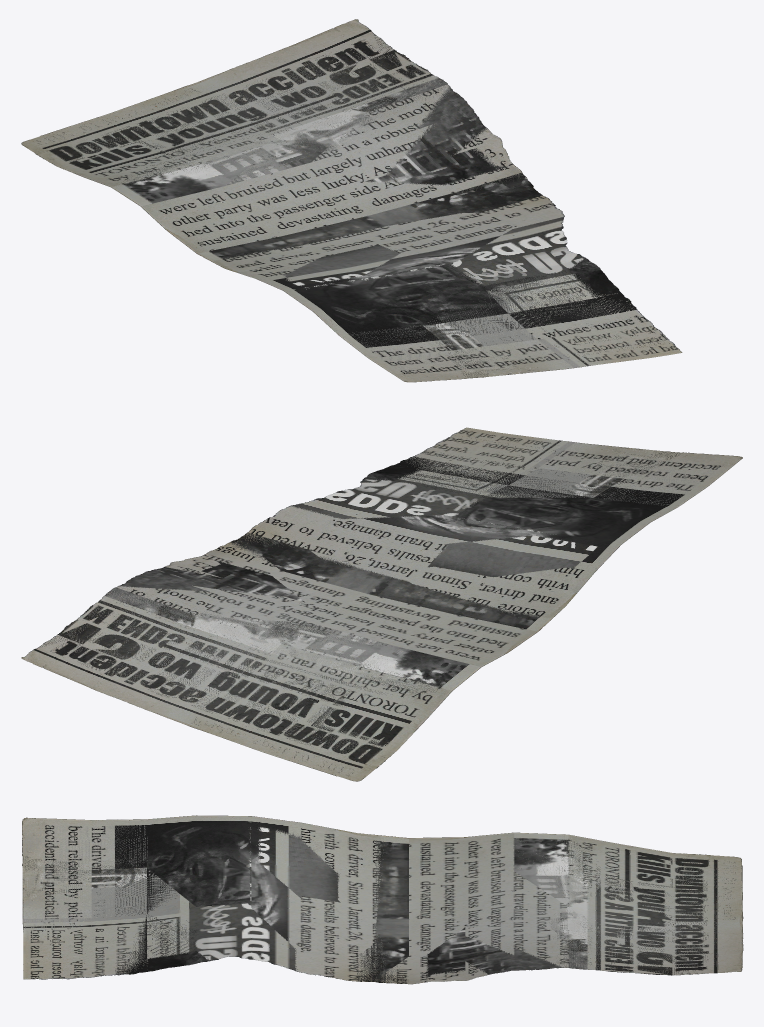
The model's file is 00_01_newspaper_article.dae.
The picture shows the model from 3 angles, top to bottom: view 1: azimuth 30°, elevation 25°; view 2: azimuth 150°, elevation 25°; view 3: azimuth 270°, elevation 25°; orthographic projection. The views are drawn at different scales.
Visible parts, largest first — view 1: Mesh; view 2: Mesh; view 3: Mesh.
Boxes of the visible parts, left/top/right/bottom form: Mesh: left=21, top=19, right=682, bottom=382; Mesh: left=21, top=427, right=742, bottom=781; Mesh: left=22, top=815, right=743, bottom=984.
Size of the model in its own units: 0.25 by 0.0324 by 0.4986.
